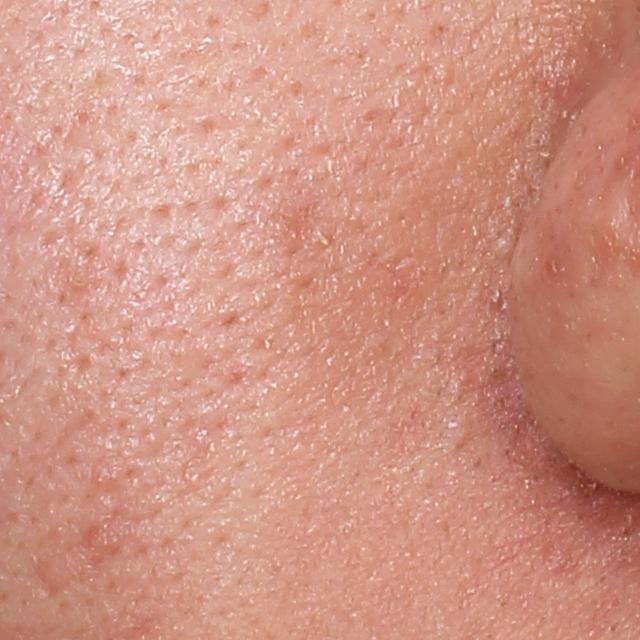atrophic_scar: (72, 516, 121, 568), (30, 551, 63, 606)
